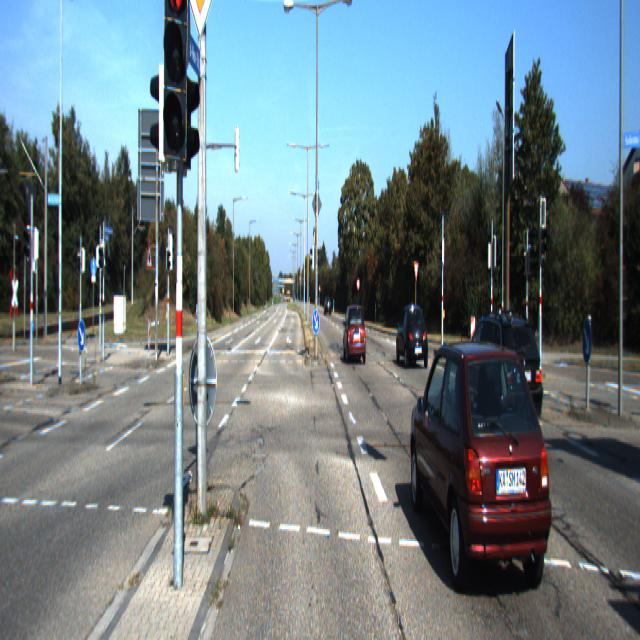Car: (409, 331, 555, 618), (454, 309, 545, 440), (396, 303, 429, 371), (343, 304, 366, 365)
